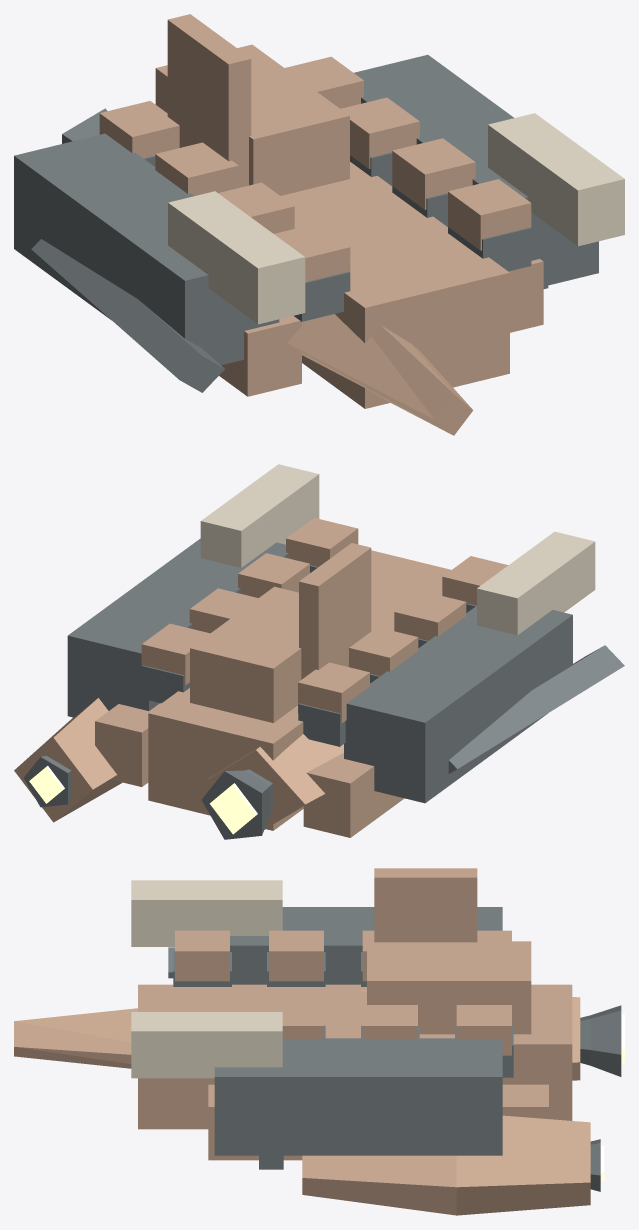
3 renders of one model, top to bottom at view 1: azimuth 30°, elevation 25°; view 2: azimuth 150°, elevation 25°; view 3: azimuth 270°, elevation 25°, orthographic. The views are drawn at different scales.
Size of the model in its own units: 15.52 by 9.35 by 20.82.
